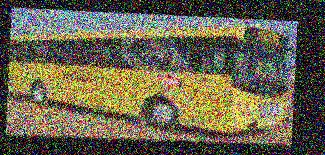bus: (6, 16, 297, 138)
